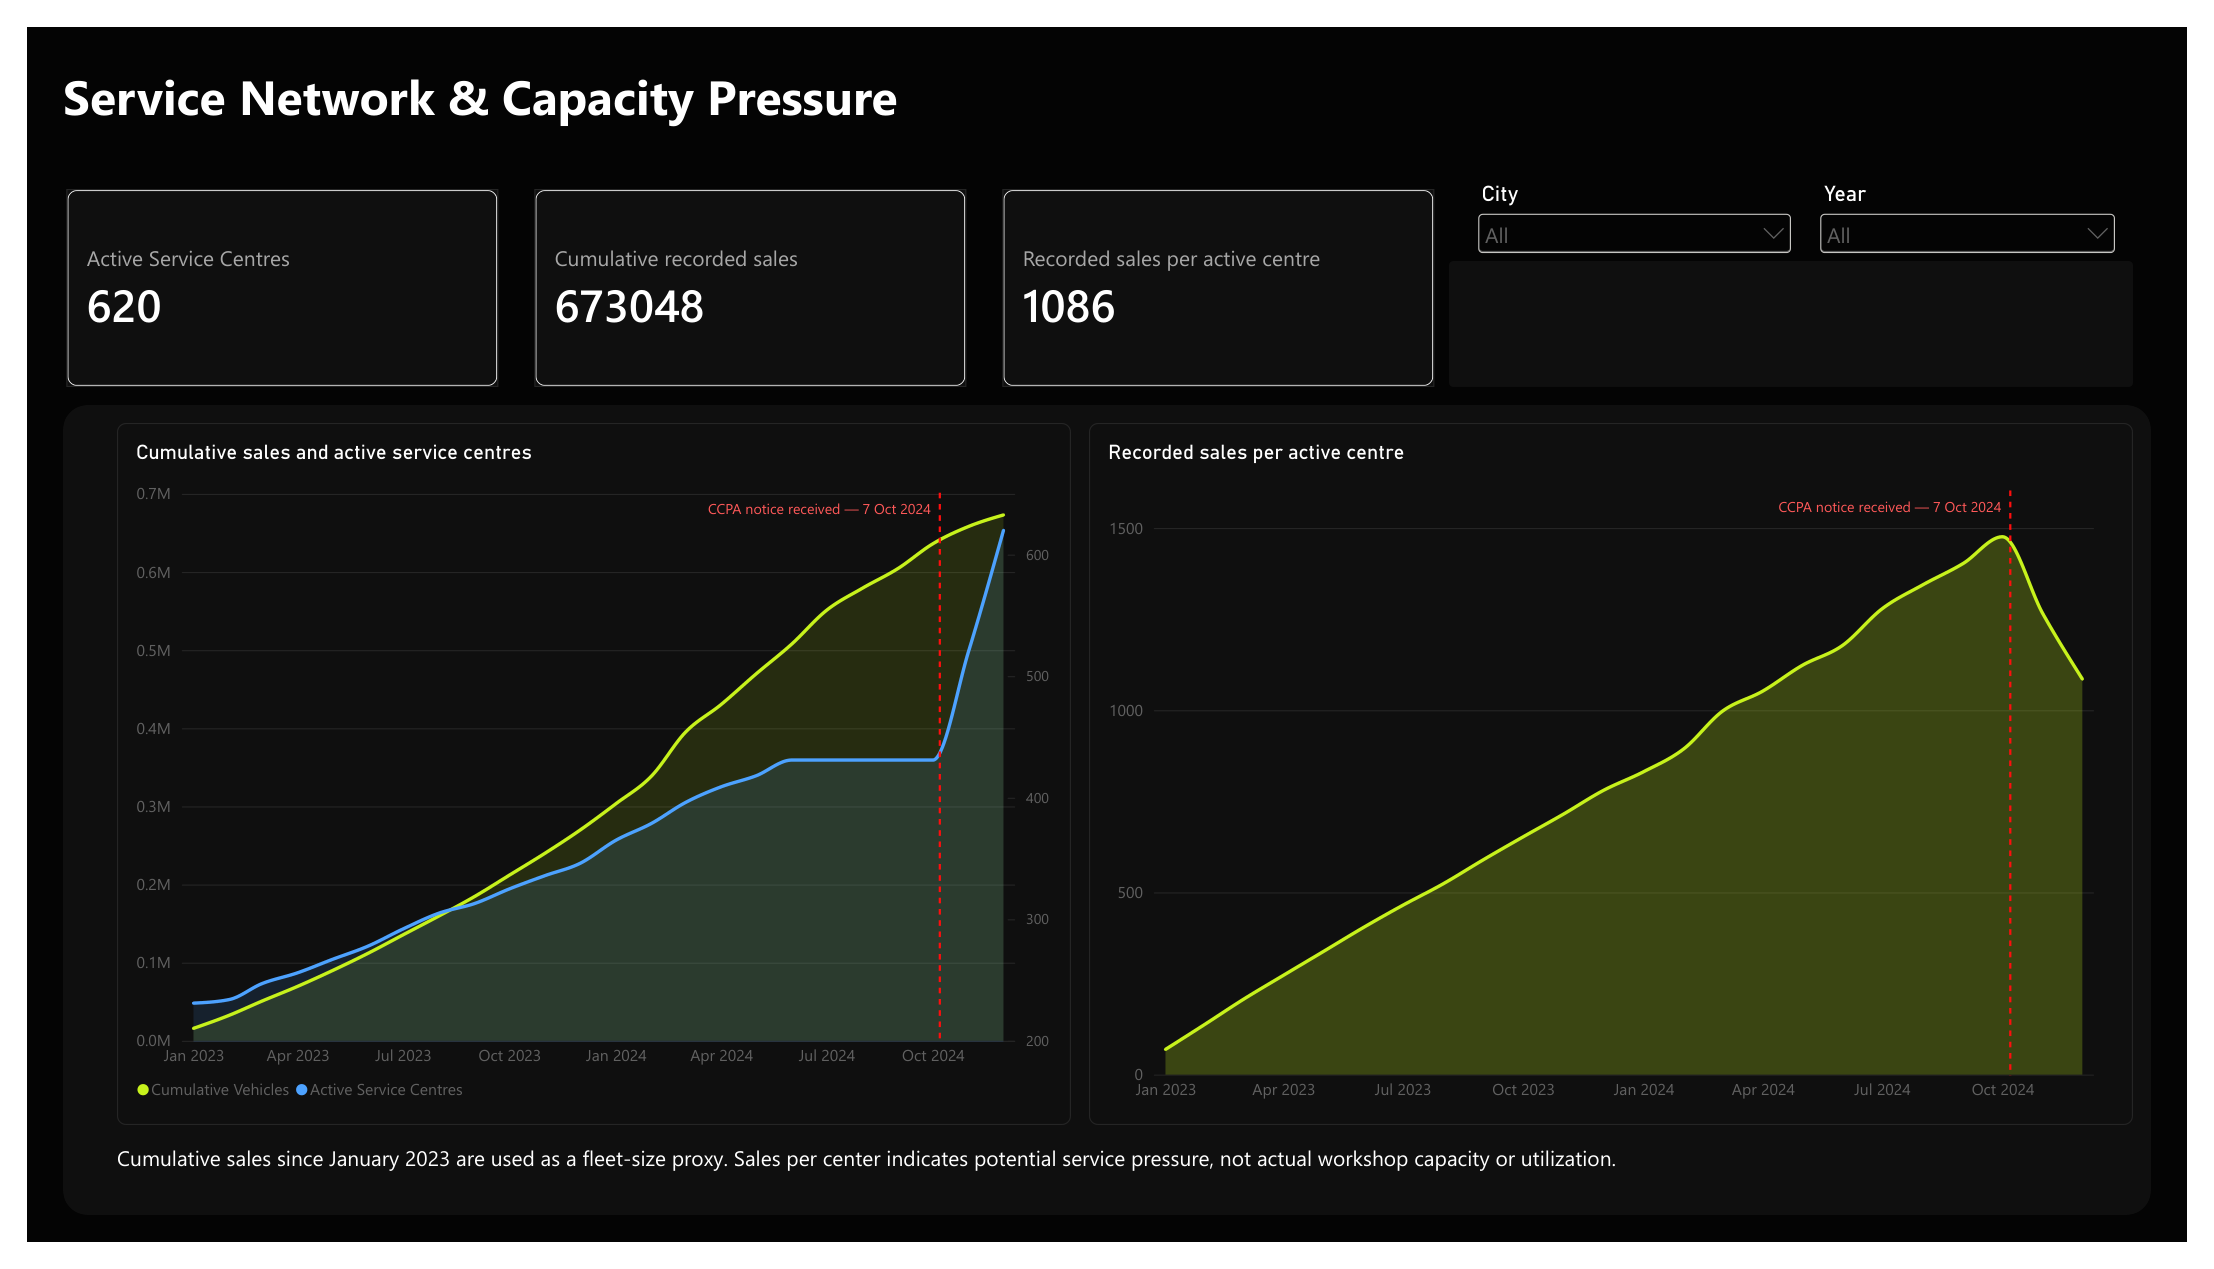

This screenshot's page, from the dashboard's own definition file:
{"tool":"powerbi","page":{"name":"Service Capacity Gap","canvas":[1920,1080],"ordinal":2},"visuals":[{"type":"shape","box":[1264,208,608,112],"z":500},{"type":"shape","box":[32,336,1856,720],"z":1000},{"type":"slicer","fields":{"Values":["ola_star dim_city.city_name"]},"box":[1284.9,137.4,288,96],"z":2000},{"type":"slicer","fields":{"Values":["ola_star dim_date.year"]},"box":[1588.9,137.4,272,96],"z":3000},{"type":"lineChart","title":"Cumulative sales and active service centres","fields":{"Category":["ola_star dim_date.Month Start"],"Y":["ola_star fact_sales.Cumulative Vehicles"],"Y2":["ola_star fact_sales.Active Service Centres"]},"box":[80,352,848,624],"z":4000},{"type":"lineChart","title":"Recorded sales per active centre","fields":{"Category":["ola_star dim_date.Month Start"],"Y":["ola_star fact_sales.Vehicles per Service Centre"]},"box":[944,352,928,624],"z":5000},{"type":"cardVisual","fields":{"Data":["ola_star fact_sales.Vehicles per Service Centre"]},"box":[867.5,144.4,384,176],"z":6000},{"type":"cardVisual","fields":{"Data":["ola_star fact_sales.Cumulative Vehicles"]},"box":[451.5,144.4,384,176],"z":7000},{"type":"cardVisual","fields":{"Data":["ola_star fact_sales.Active Service Centres"]},"box":[35.5,144.4,384,176],"z":8000},{"type":"textbox","box":[32,32,768,80],"z":9000},{"type":"textbox","box":[80,992,1440,48],"z":10000}]}

Visuals, with their boxes in screenshot pixels (x1, y1, x2, y2), scaled from the page's 1920x1080 canvas onto the 2214x1269 screenshot:
shape: {"x1": 1458, "y1": 244, "x2": 2159, "y2": 376}
shape: {"x1": 37, "y1": 395, "x2": 2177, "y2": 1241}
slicer - ola_star dim_city.city_name: {"x1": 1482, "y1": 161, "x2": 1814, "y2": 274}
slicer - ola_star dim_date.year: {"x1": 1832, "y1": 161, "x2": 2146, "y2": 274}
"Cumulative sales and active service centres" lineChart: {"x1": 92, "y1": 414, "x2": 1070, "y2": 1147}
"Recorded sales per active centre" lineChart: {"x1": 1089, "y1": 414, "x2": 2159, "y2": 1147}
cardVisual - ola_star fact_sales.Vehicles per Service Centre: {"x1": 1000, "y1": 170, "x2": 1443, "y2": 376}
cardVisual - ola_star fact_sales.Cumulative Vehicles: {"x1": 521, "y1": 170, "x2": 963, "y2": 376}
cardVisual - ola_star fact_sales.Active Service Centres: {"x1": 41, "y1": 170, "x2": 484, "y2": 376}
textbox: {"x1": 37, "y1": 38, "x2": 922, "y2": 132}
textbox: {"x1": 92, "y1": 1166, "x2": 1753, "y2": 1222}
